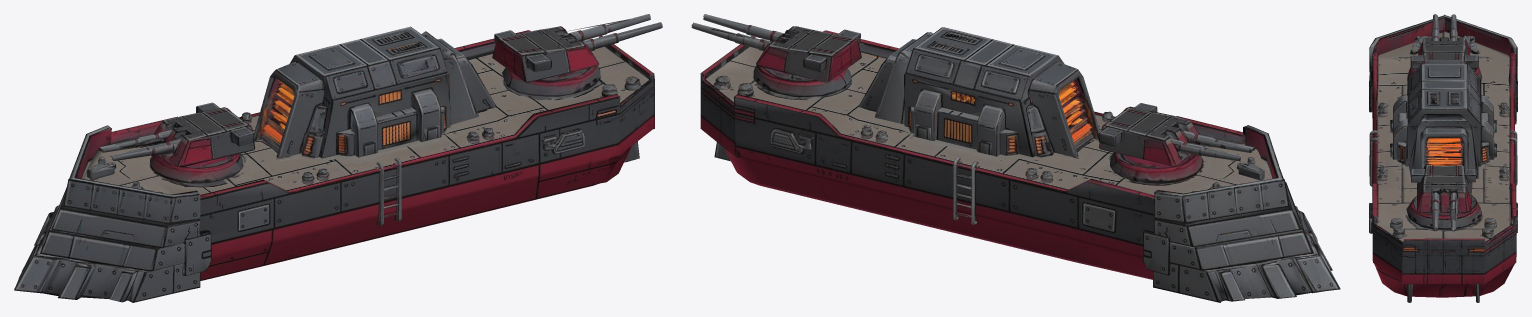
File: kabuto.glb
3 renders of one model, left to right at view 1: azimuth 30°, elevation 25°; view 2: azimuth 150°, elevation 25°; view 3: azimuth 270°, elevation 25°, orthographic. The views are drawn at different scales.
Bounding box in the file's own units: 0.9536 × 0.2202 × 0.2417.
1 material, 1 textured.
